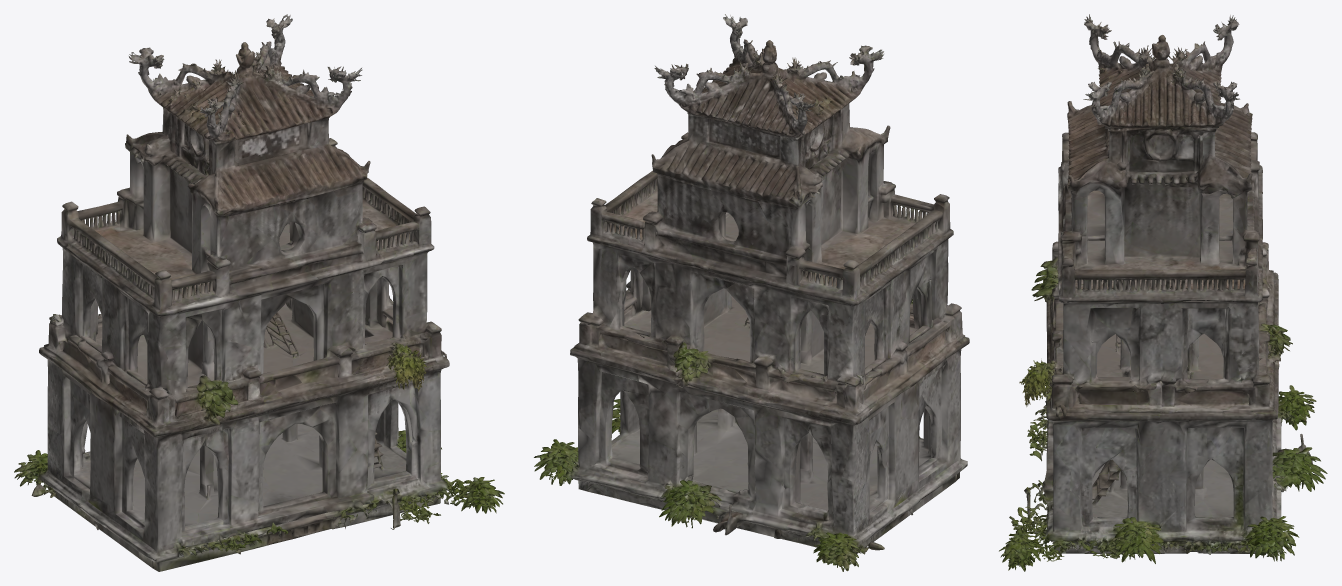
Rendered from thap-rua-lod0.glb.
3 views of the same model, side by side, from view 1: azimuth 30°, elevation 25°; view 2: azimuth 150°, elevation 25°; view 3: azimuth 270°, elevation 25° (orthographic). The views are drawn at different scales.
Visible parts, largest first — view 1: Mesh_0.002; view 2: Mesh_0.002; view 3: Mesh_0.002.
Part boxes in pixels (x1,y1,x2,y2): Mesh_0.002: (14,14,504,571); Mesh_0.002: (534,14,969,571); Mesh_0.002: (999,14,1327,571).
Size of the model in its own units: 7.01 by 8.8 by 5.78.
1 material, 1 textured.
